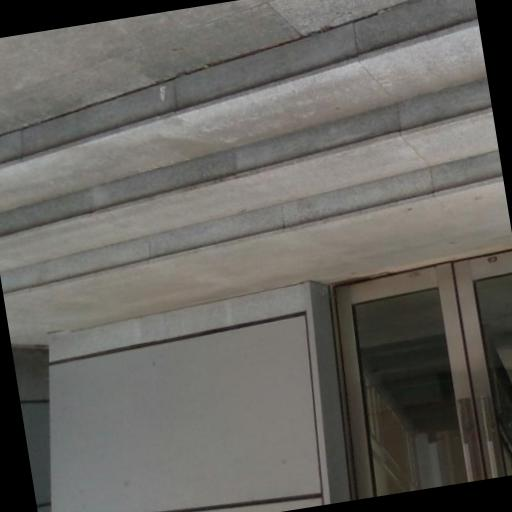stairs: (0, 0, 503, 293), (362, 334, 458, 431)
